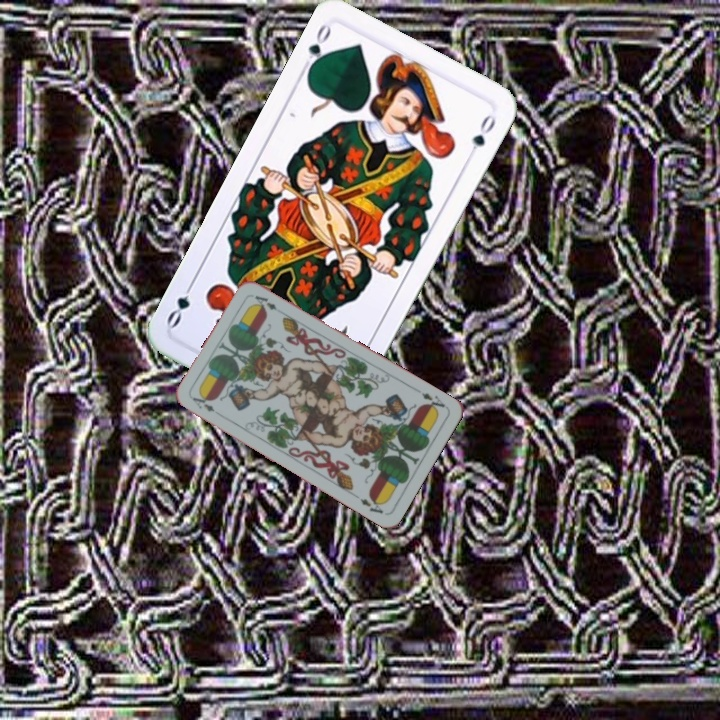EA: (412, 385, 449, 414), (188, 392, 217, 414)
GO: (297, 20, 334, 77)
